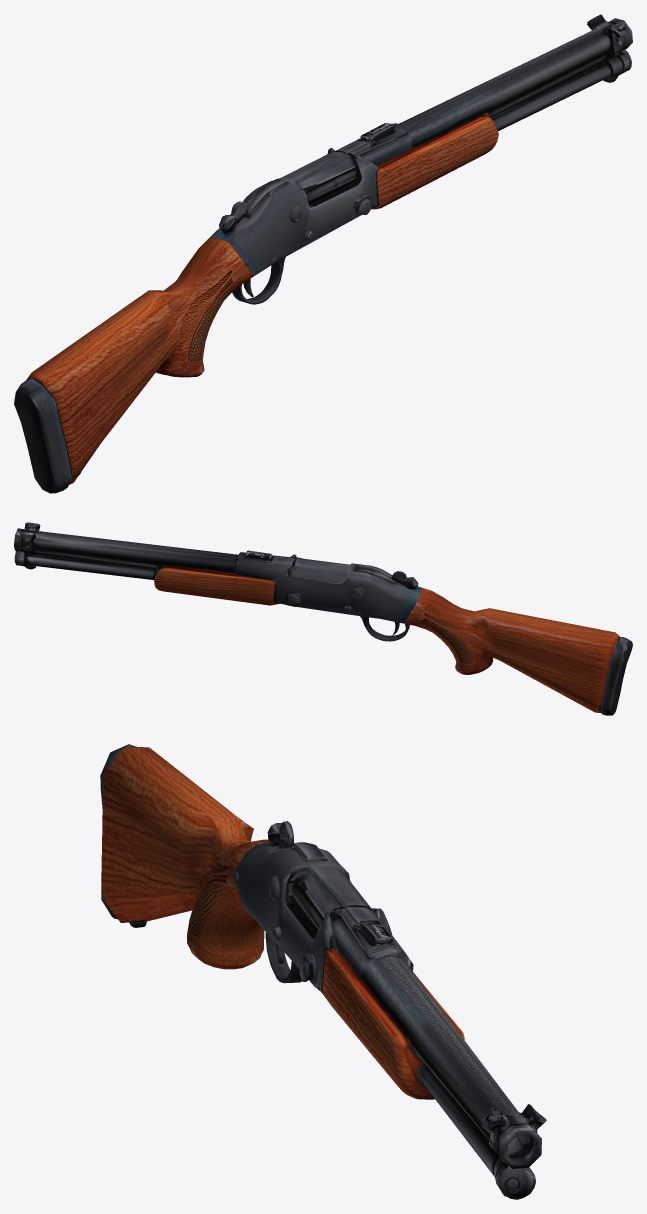
Rendered from sawed-off+shotgun+3d+model.glb.
The picture shows the model from 3 angles, top to bottom: view 1: azimuth 30°, elevation 25°; view 2: azimuth 150°, elevation 25°; view 3: azimuth 270°, elevation 25°; orthographic projection. The views are drawn at different scales.
Parts seen in each view (by area): view 1: tripo_node_2896421d-2858-431e-819c-4a79f6102582; view 2: tripo_node_2896421d-2858-431e-819c-4a79f6102582; view 3: tripo_node_2896421d-2858-431e-819c-4a79f6102582.
Part boxes in pixels (box(x1,y1,x2,y2)): tripo_node_2896421d-2858-431e-819c-4a79f6102582: box(14, 14, 632, 493); tripo_node_2896421d-2858-431e-819c-4a79f6102582: box(14, 522, 632, 715); tripo_node_2896421d-2858-431e-819c-4a79f6102582: box(100, 744, 546, 1199).
Bounding box in the file's own units: 0.9995 × 0.2583 × 0.3716.
Materials: 1 (1 with a texture image).
